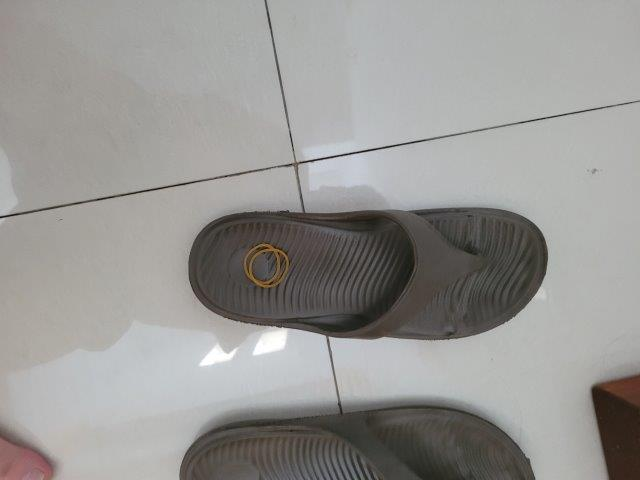karet: (243, 243, 291, 287)
